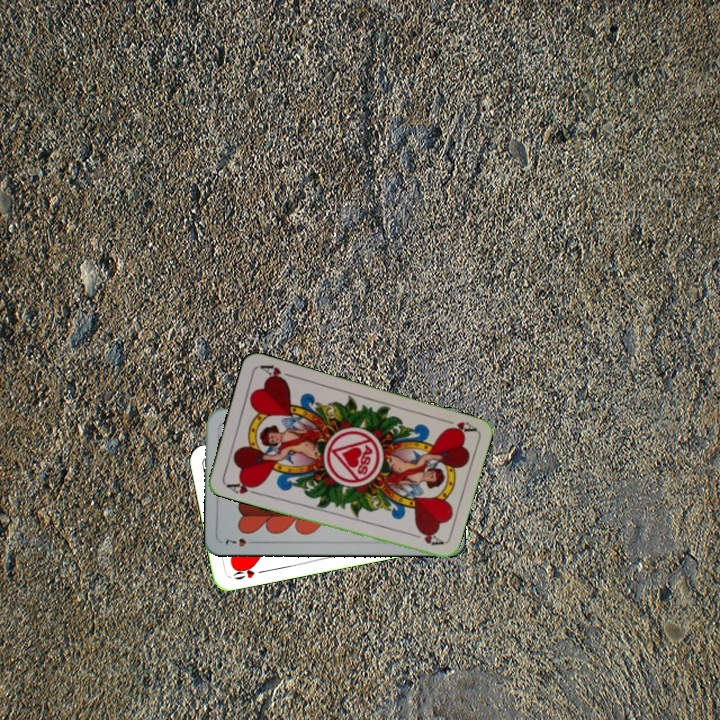H7: (221, 534, 260, 550)
HA: (222, 476, 262, 498), (438, 415, 477, 437)
HO: (227, 561, 268, 582)
